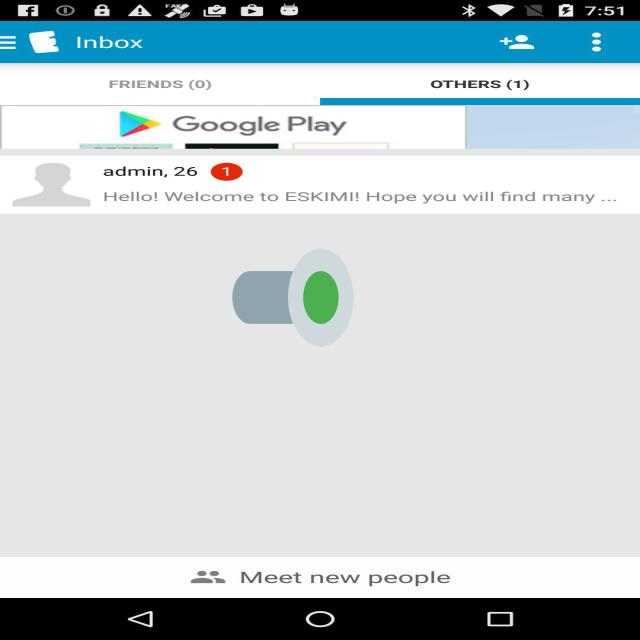social proof: (232, 207, 354, 388)
